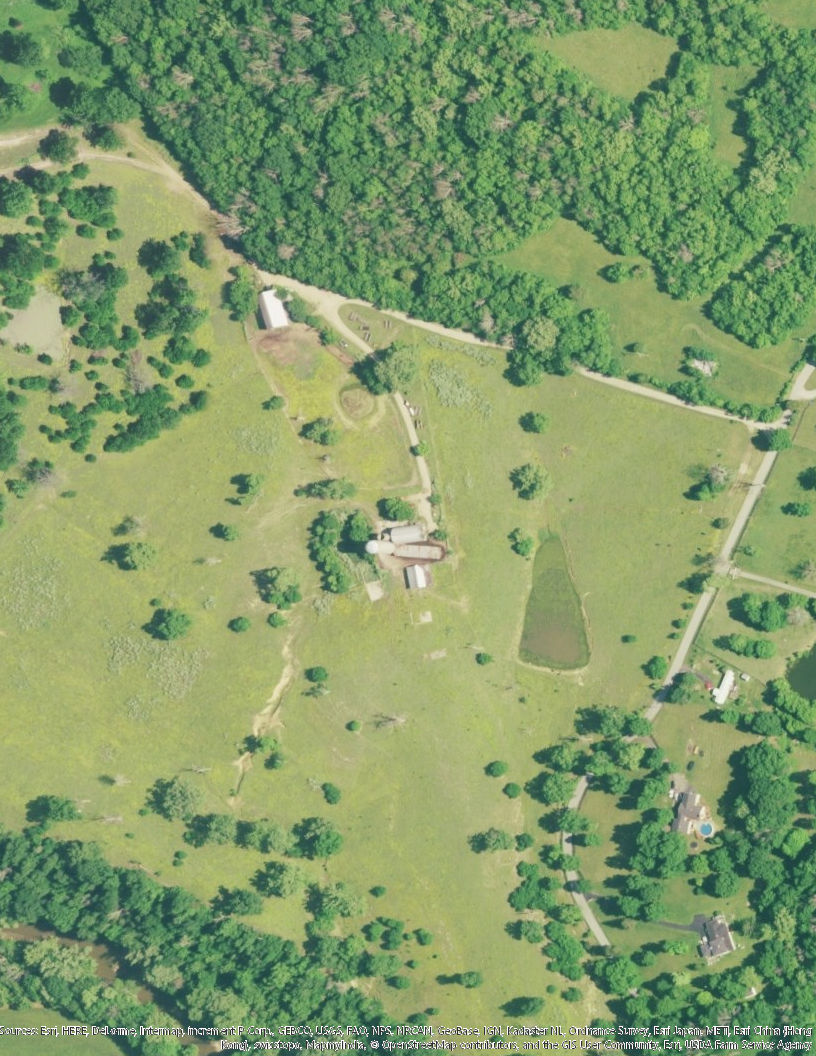cafo: (379, 527, 448, 564)
